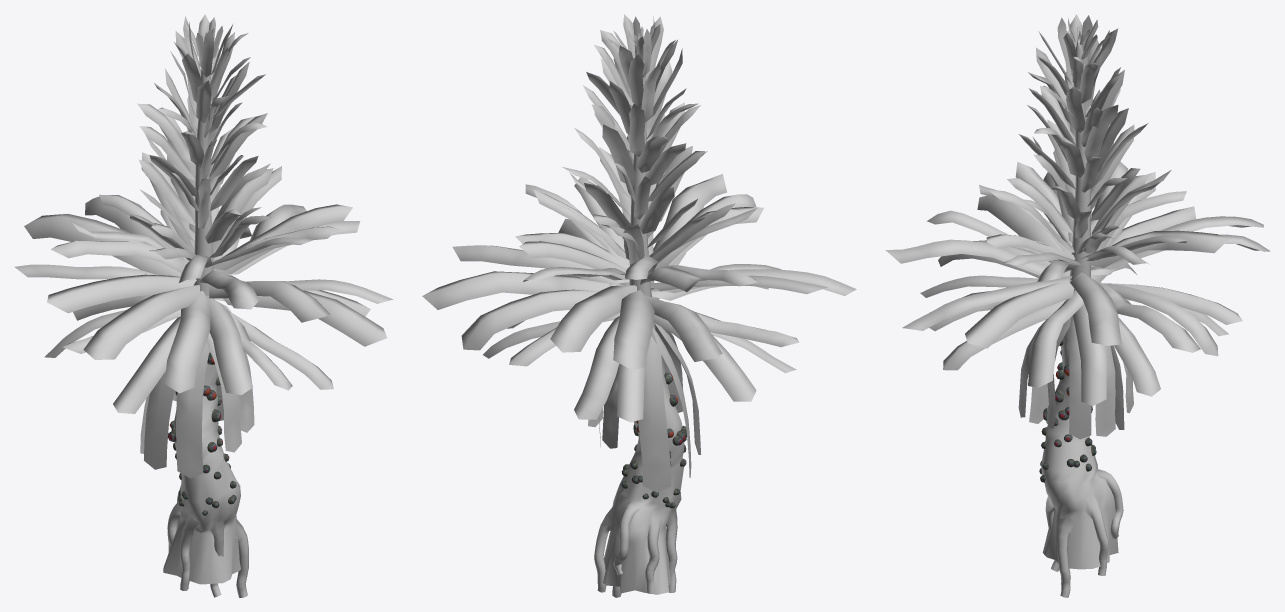
File: Plant15B.fbx
3 renders of one model, left to right at view 1: azimuth 30°, elevation 25°; view 2: azimuth 150°, elevation 25°; view 3: azimuth 270°, elevation 25°, orthographic. The views are drawn at different scales.
Parts seen in each view (by area): view 1: polySurface1987; view 2: polySurface1987; view 3: polySurface1987.
Part boxes in pixels (bbox=[...]): polySurface1987: bbox=[14, 14, 393, 597]; polySurface1987: bbox=[422, 14, 856, 597]; polySurface1987: bbox=[885, 14, 1270, 597].
Size of the model in its own units: 324 by 524 by 325.
